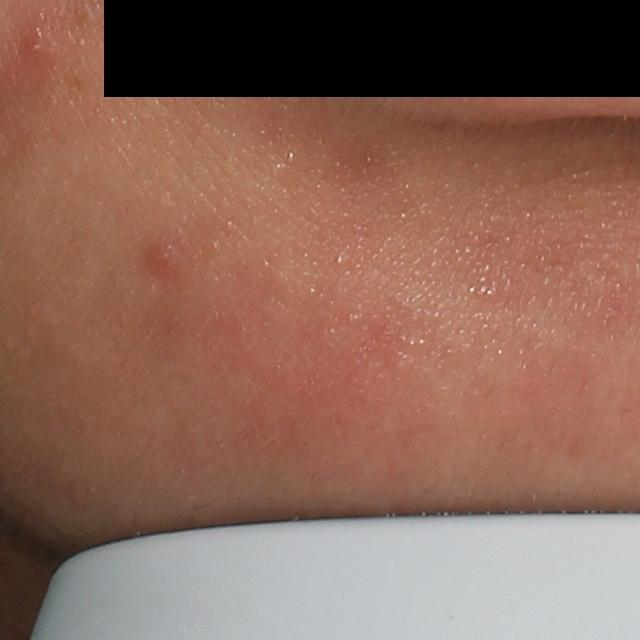papule: (144, 243, 178, 282), (19, 17, 52, 57)
